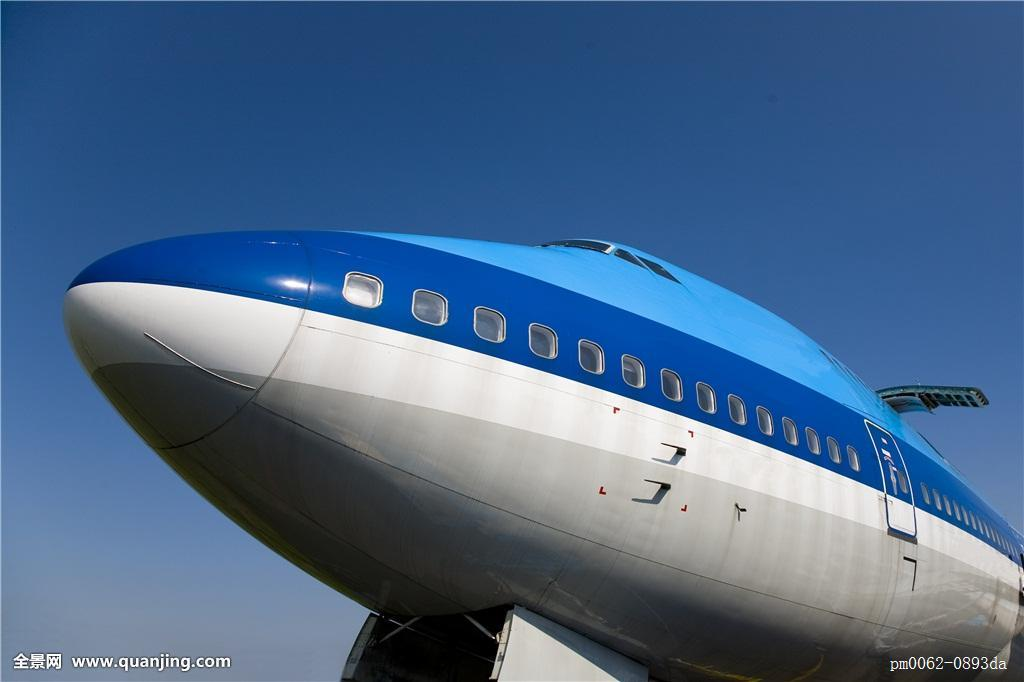airplane: (46, 220, 1024, 682)
